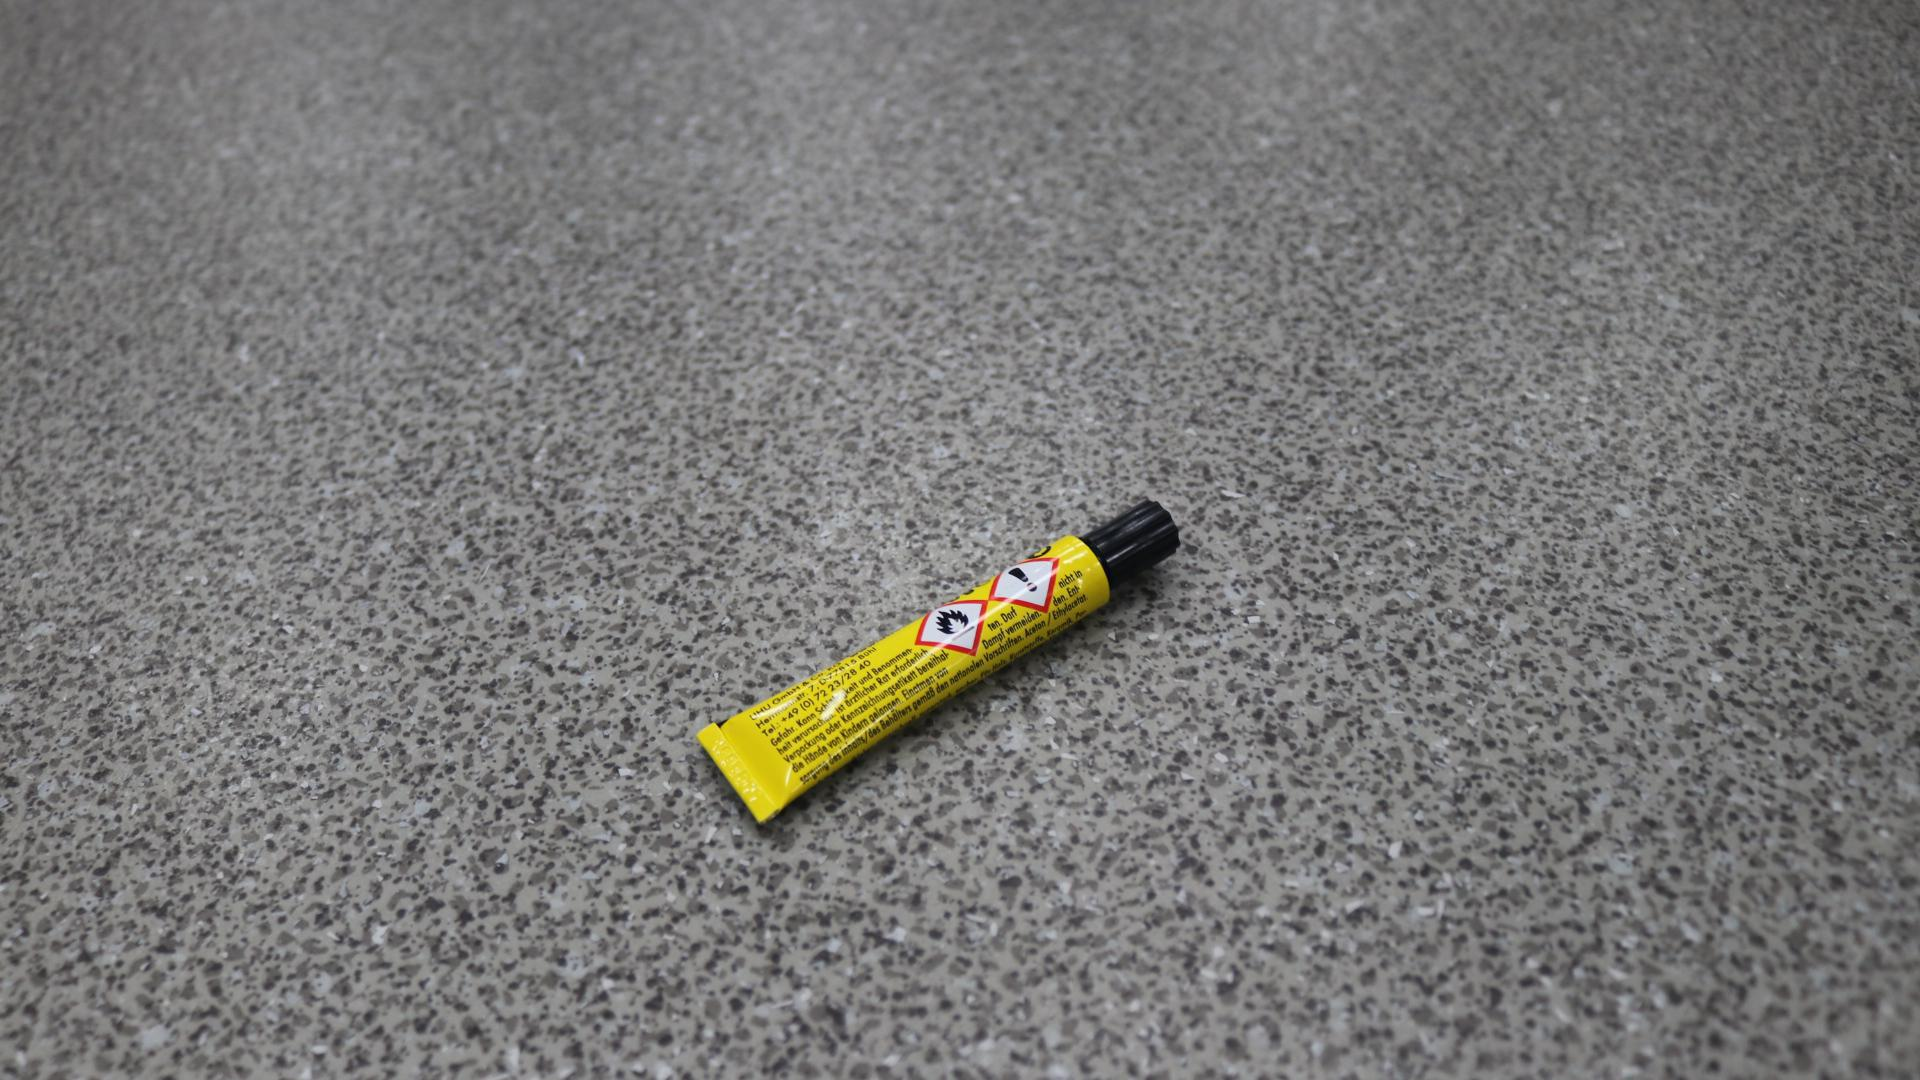Head: (1125, 532, 1138, 545)
Tail: (731, 768, 747, 784)
Tube: (698, 498, 1182, 828)
